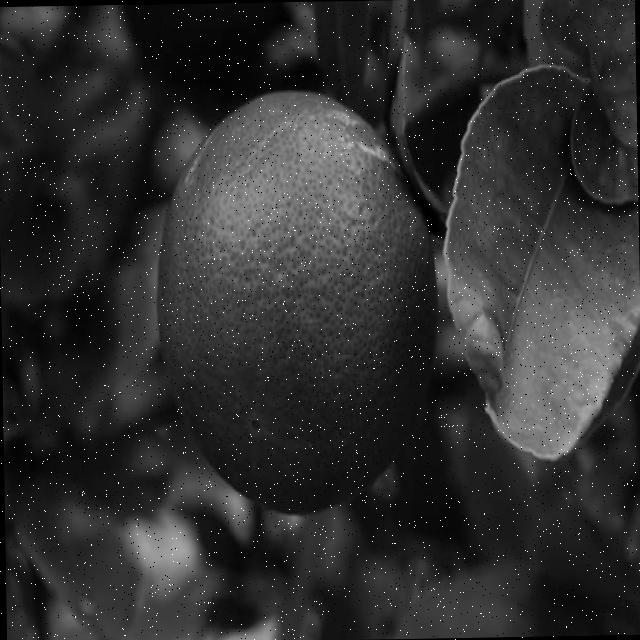Unripe: (151, 83, 438, 514)
